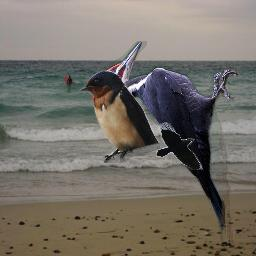Crow: (156, 122, 203, 170)
Swallow: (79, 70, 160, 163)
Woodpecker: (92, 41, 238, 247)
